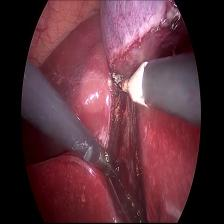Grasper: (98, 145, 124, 192)
Hook: (112, 59, 152, 114)
